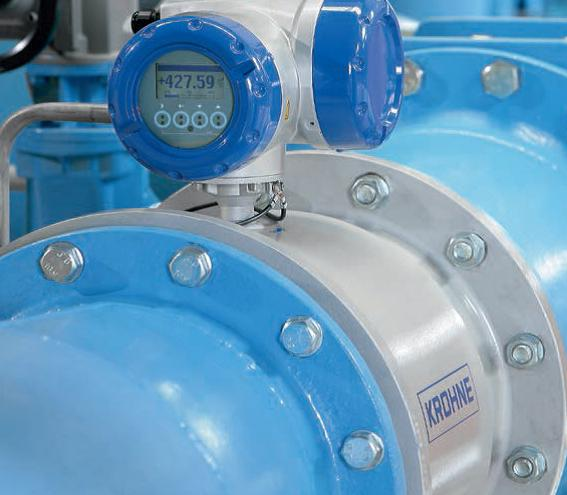bolt_a: (166, 246, 212, 289), (37, 243, 83, 285), (275, 316, 320, 358), (336, 433, 382, 472)
bolt_b: (504, 447, 544, 486), (349, 172, 387, 211), (445, 231, 483, 269), (503, 334, 541, 371)
vague: (477, 57, 522, 101)
